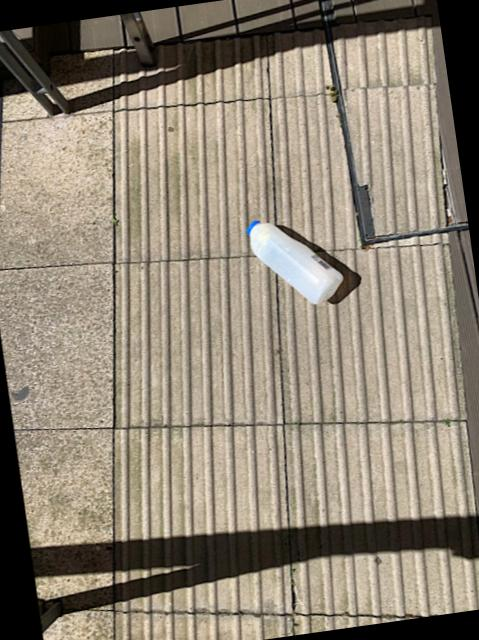plastic: (248, 224, 341, 304)
